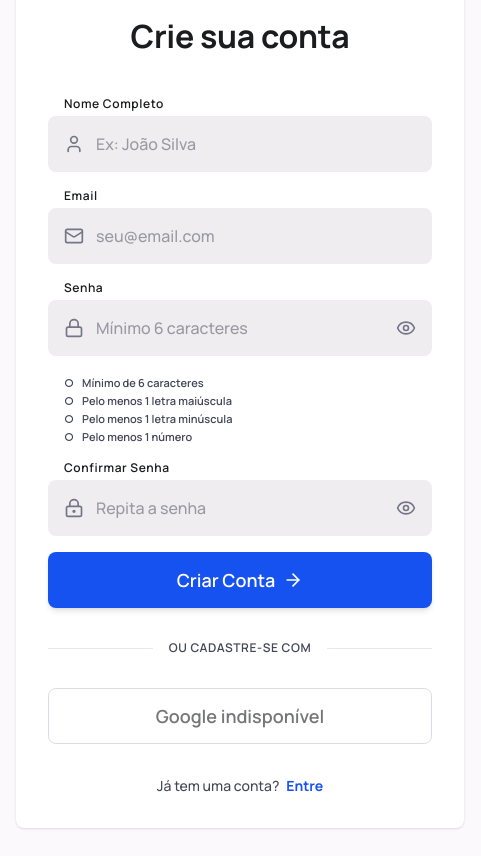
Test case: release auth password toggle › mostra erro inline para senha sem complexidade
Type "Ana Silva" into the field labelled "Nome Completo". click: (240, 144)
box: [48, 116, 432, 172]
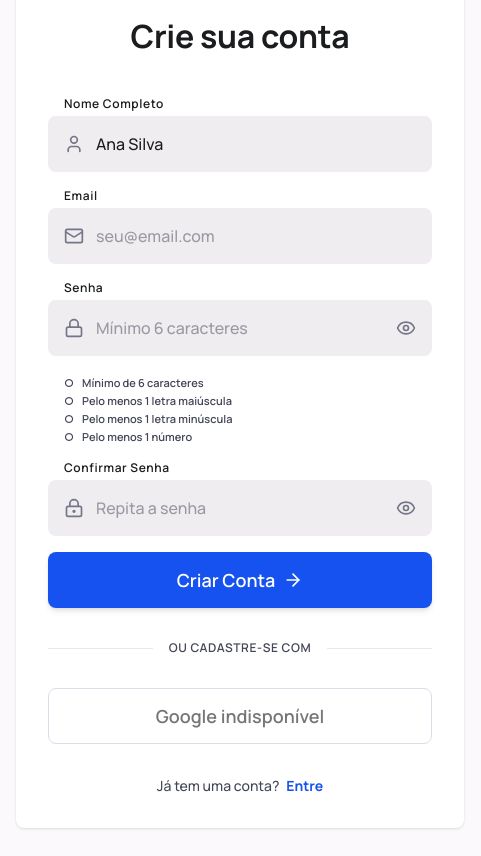
Type "ana@bagcoin.com" into the field labelled "Email". click: (240, 236)
box: [48, 208, 432, 264]
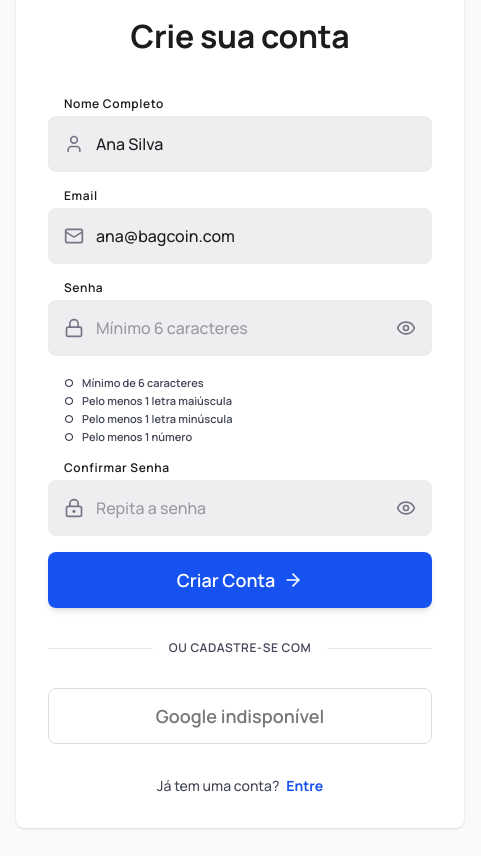
Type "abcdef" into the password field labelled "Senha". click: (240, 328)
box: [48, 300, 432, 356]
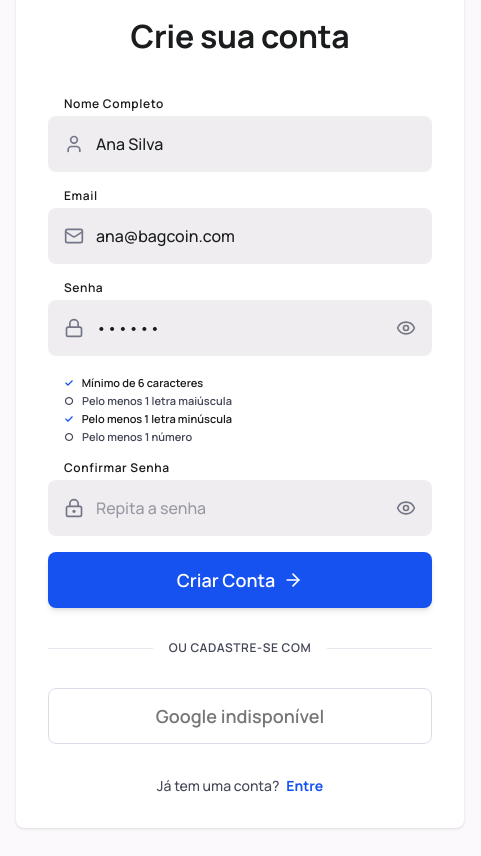
Type "abcdef" into the password field labelled "Confirmar Senha". click: (240, 508)
box: [48, 480, 432, 536]
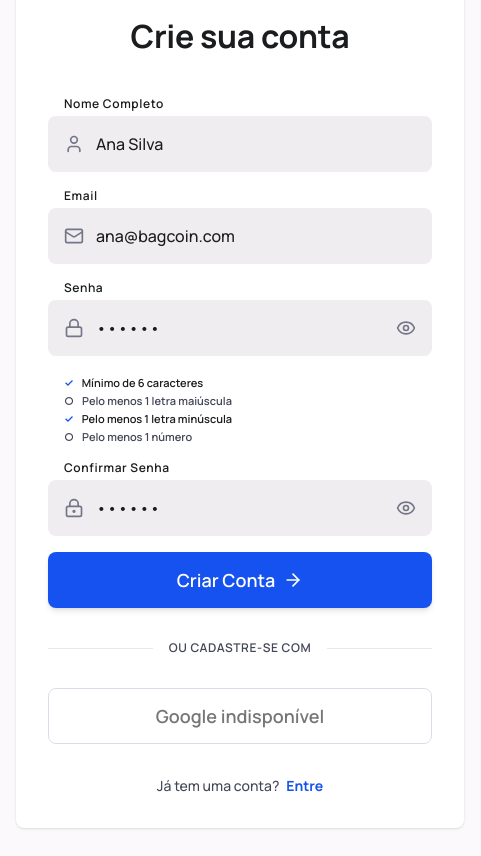
Click the button "Criar Conta". click: click(240, 580)
box: [48, 552, 432, 608]
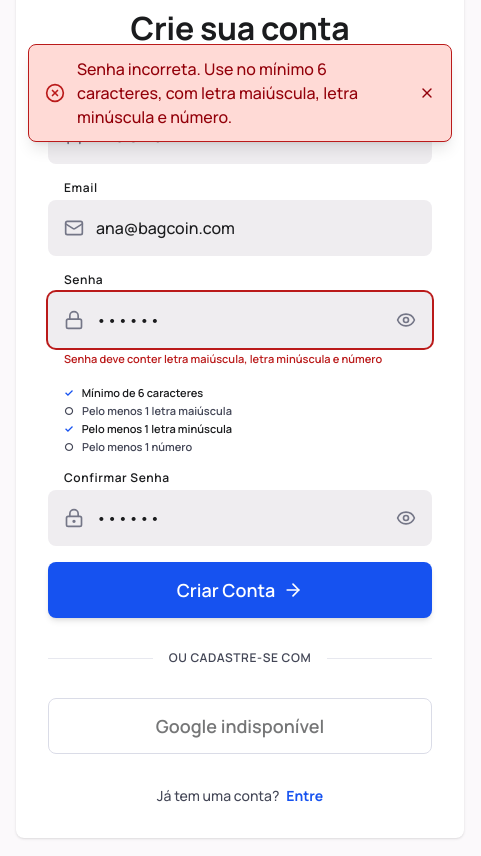
Now the text "Senha deve conter letra maiúscula, letra minúscula e número" is shown, box [64, 352, 432, 366]
Now the text "Senha incorreta. Use no mínimo 6 caracteres, com letra maiúscula, letra minúscula e número." is shown, box [77, 58, 358, 128]
